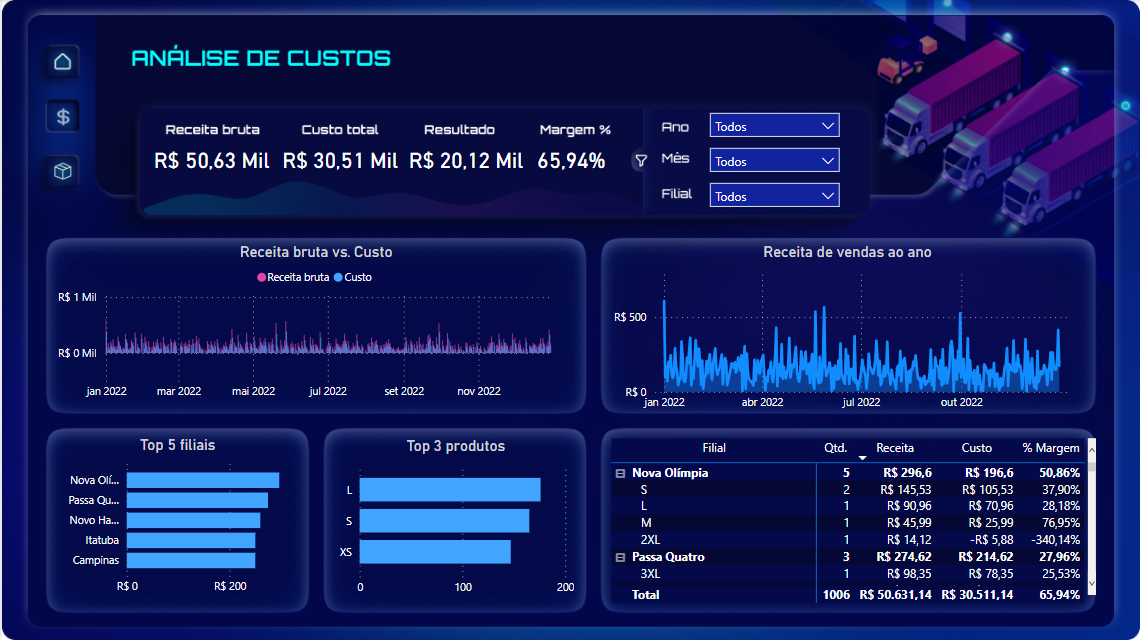

The page's visual inventory and layout, read from the dashboard file:
{"tool":"powerbi","page":{"name":"Custos","canvas":[1280,720],"ordinal":1},"visuals":[{"type":"actionButton","box":[47.2,171,41.6,40.5],"z":0},{"type":"actionButton","box":[47.2,49.5,41.6,40.5],"z":1000},{"type":"areaChart","title":"Receita de vendas ao ano","fields":{"Y":["Sum(MOCK_DATA.preço)"],"Category":["dCalendario.DataId.Variation.Hierarquia de datas.Ano","dCalendario.DataId.Variation.Hierarquia de datas.Trimestre","dCalendario.DataId.Variation.Hierarquia de datas.Mês","dCalendario.DataId.Variation.Hierarquia de datas.Dia"]},"box":[683.4,273.6,536.6,197.5],"z":2000},{"type":"card","fields":{"Values":["Sum(MOCK_DATA.preço)"]},"box":[156.2,123.8,158.8,112.1],"z":3000},{"type":"card","fields":{"Values":["Sum(MOCK_DATA.custo)"]},"box":[303.4,142.8,166.8,74.7],"z":4000},{"type":"card","fields":{"Values":["MOCK_DATA.preço menos custo"]},"box":[458.7,136.1,138.8,86.8],"z":5000},{"type":"card","fields":{"Values":["MOCK_DATA.preço % de diferença de custo"]},"box":[585.9,141.8,108.1,76.1],"z":6000},{"type":"slicer","fields":{"Values":["dCalendario.Ano"]},"box":[786.2,117.5,165.5,44],"z":7000},{"type":"slicer","fields":{"Values":["dCalendario.NomeMês"]},"box":[786.2,156.8,165.5,44],"z":8000},{"type":"slicer","fields":{"Values":["MOCK_DATA.cidade"]},"box":[786.2,196.2,165.5,44],"z":9000},{"type":"clusteredColumnChart","title":"Receita bruta vs. Custo","fields":{"Category":["dCalendario.DataId"],"Y":["Sum(MOCK_DATA.preço)","Sum(MOCK_DATA.custo)"]},"box":[57.9,273.7,591.7,185.1],"z":10000},{"type":"barChart","title":"Top 5 filiais","fields":{"Category":["MOCK_DATA.cidade"],"Y":["Sum(MOCK_DATA.preço)"]},"box":[57.9,490.6,280.5,187.4],"z":11000},{"type":"barChart","title":"Top 3 produtos","fields":{"Category":["MOCK_DATA.tamanho"],"Y":["Sum(MOCK_DATA.Quantidade)"]},"box":[372.4,491.2,276.3,186.9],"z":12000},{"type":"pivotTable","fields":{"Rows":["MOCK_DATA.cidade","MOCK_DATA.tamanho"],"Values":["Sum(MOCK_DATA.Quantidade)","Sum(MOCK_DATA.preço)","Sum(MOCK_DATA.custo)","MOCK_DATA.preço % de diferença de custo"]},"box":[683.4,491.2,536.6,186.9],"z":13000}]}

Visuals, with their boxes in screenshot pixels (x1, y1, x2, y2), scaled from the page's 1280x720 canvas onto the 1140x640 screenshot:
actionButton: 42:152:79:188
actionButton: 42:44:79:80
"Receita de vendas ao ano" areaChart: 609:243:1087:419
card - Sum(MOCK_DATA.preço): 139:110:281:210
card - Sum(MOCK_DATA.custo): 270:127:419:193
card - MOCK_DATA.preço menos custo: 409:121:532:198
card - MOCK_DATA.preço % de diferença de custo: 522:126:618:194
slicer - dCalendario.Ano: 700:104:848:144
slicer - dCalendario.NomeMês: 700:139:848:178
slicer - MOCK_DATA.cidade: 700:174:848:214
"Receita bruta vs. Custo" clusteredColumnChart: 52:243:579:408
"Top 5 filiais" barChart: 52:436:301:603
"Top 3 produtos" barChart: 332:437:578:603
pivotTable - MOCK_DATA.cidade x MOCK_DATA.tamanho: 609:437:1087:603
